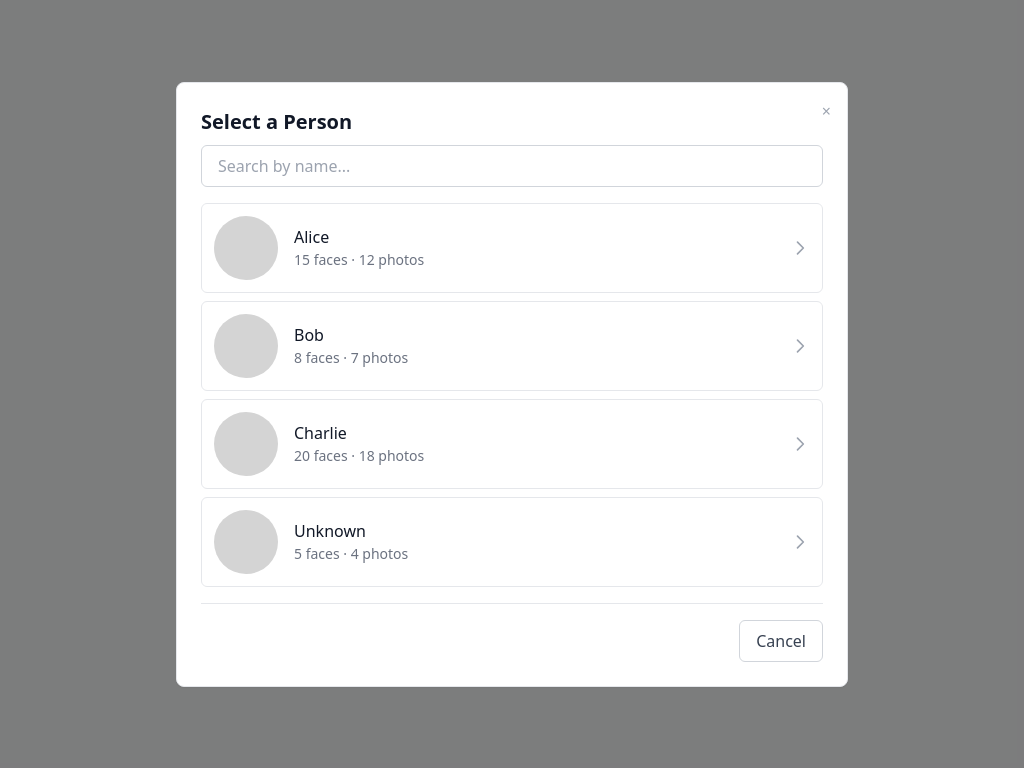
Scenario: ClusterPicker › should filter clusters by search query
This screenshot has width=1024, height=768.
In the field with placeholder "Search by name...": (512, 166) [201,144,823,186], type "alice"
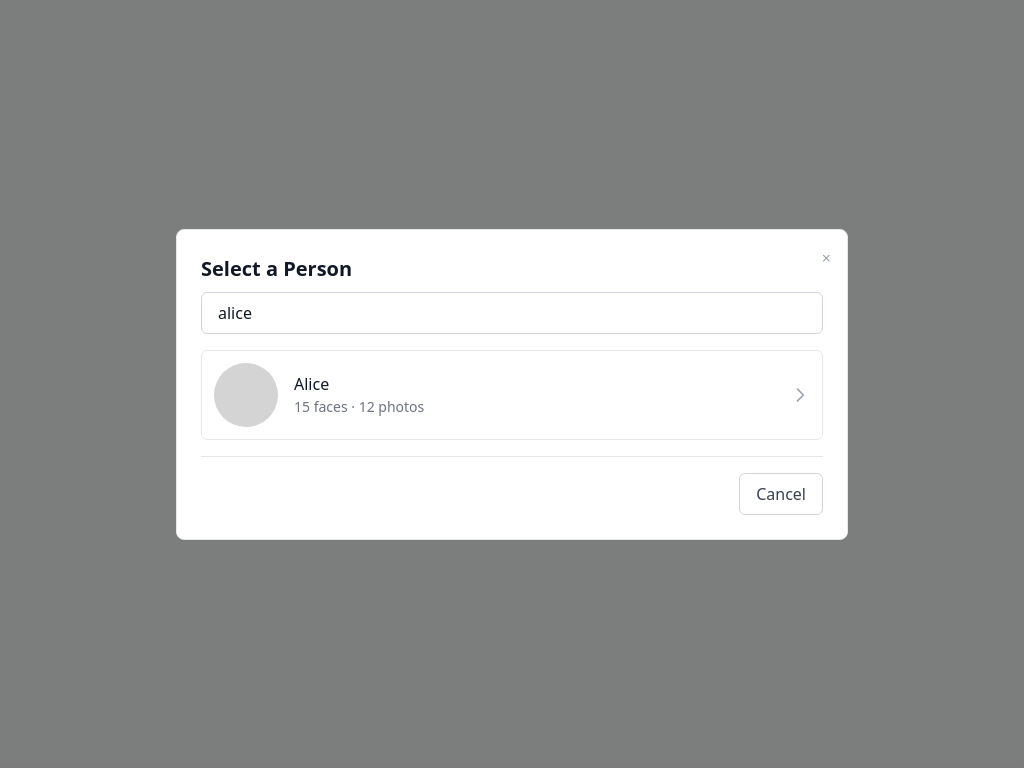
Expected: the text "Alice" is shown, [294,373,329,395]
Now the button "Bob" is gone
Now the button "Charlie" is gone
